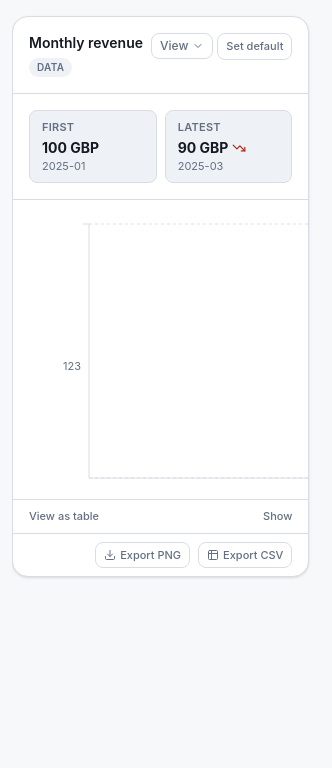
it: renders real SVG and switches the same validated series from line to bars
Click the button "View".
click(182, 46)  # box [151,33,213,59]
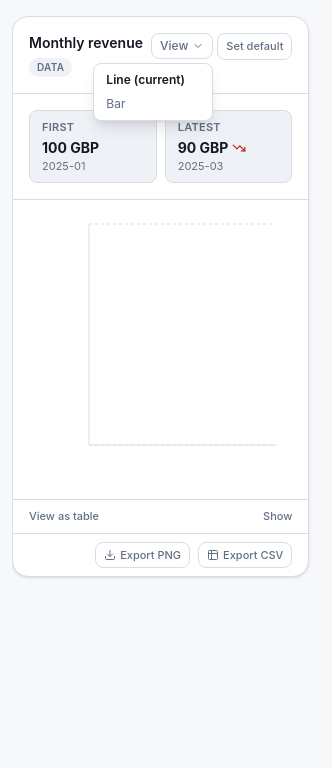
Click the menu item "Bar".
click(153, 104)  # box [98,92,208,116]
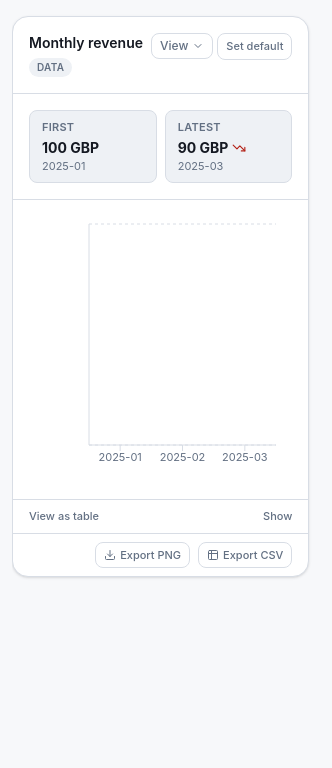
Click the button "View as table Show".
click(64, 516)  # box [13,500,308,532]
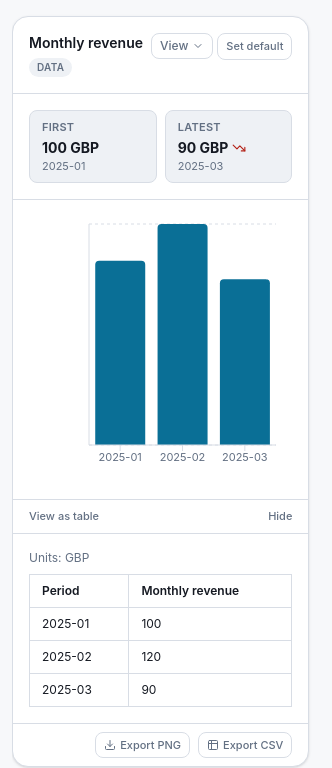
Expected: the cell "2025-01" is shown, [30,607,129,640]
Expected: the cell "100" is shown, [129,607,292,640]
Expected: the cell "120" is shown, [129,640,292,673]
